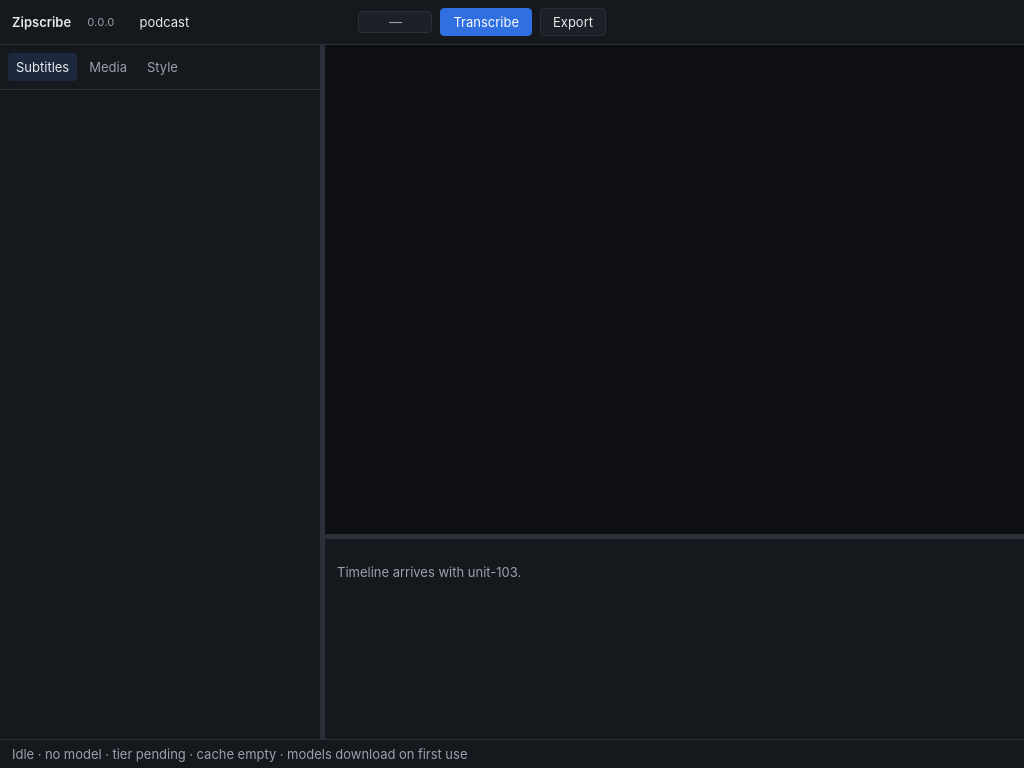
Test: CC-107.8: audio-project UI › CC-107.8: audio Media card — codec, sample rate, channels, duration; NO resolution/fps
Click the tab with test id "tab-media": (108, 67) [81,53,135,81]
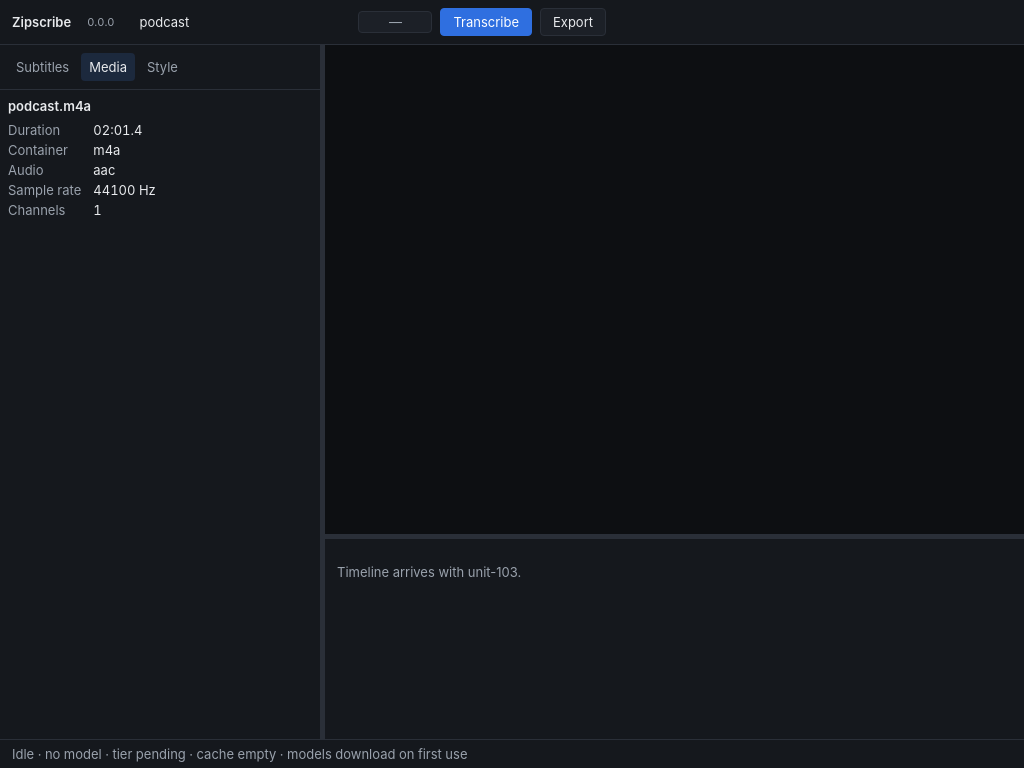
Result: the element with test id "media-asset-card" shows "podcast.m4a" at [8,98,91,114]
Result: the element with test id "media-asset-card" shows "aac" at [93,162,115,178]
